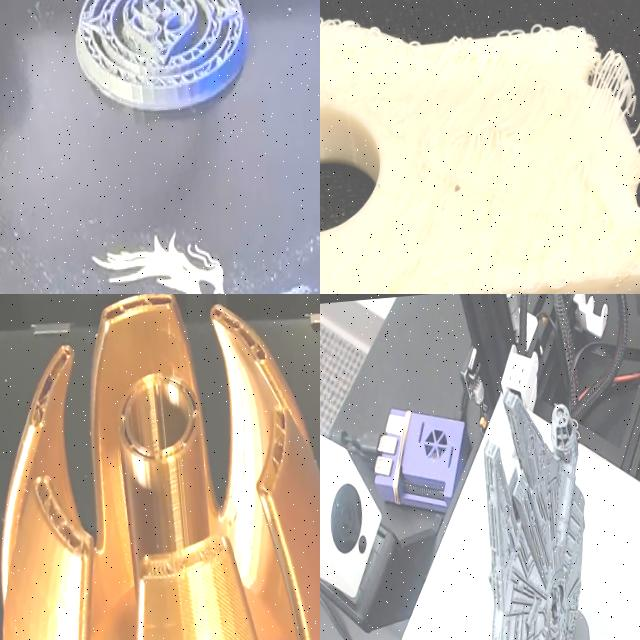spaghetti: (320, 0, 640, 294)
